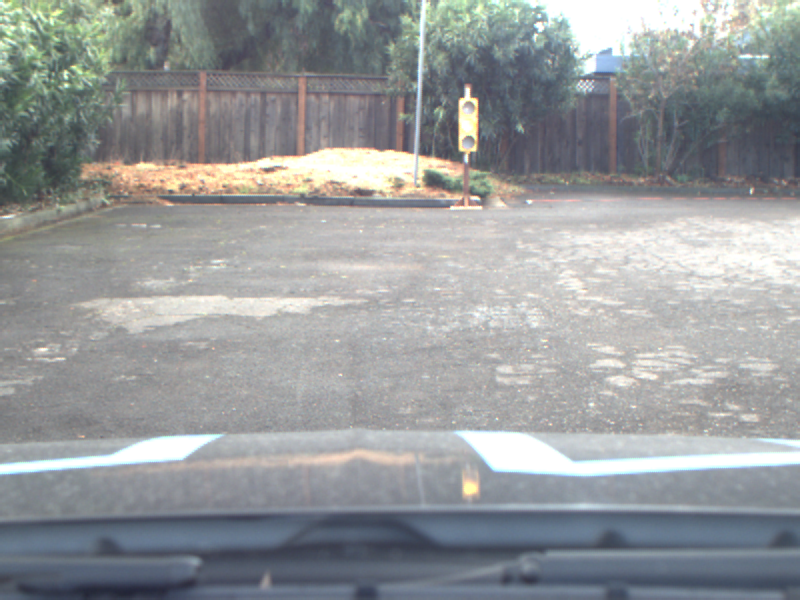Yellow: (458, 97, 478, 152)
